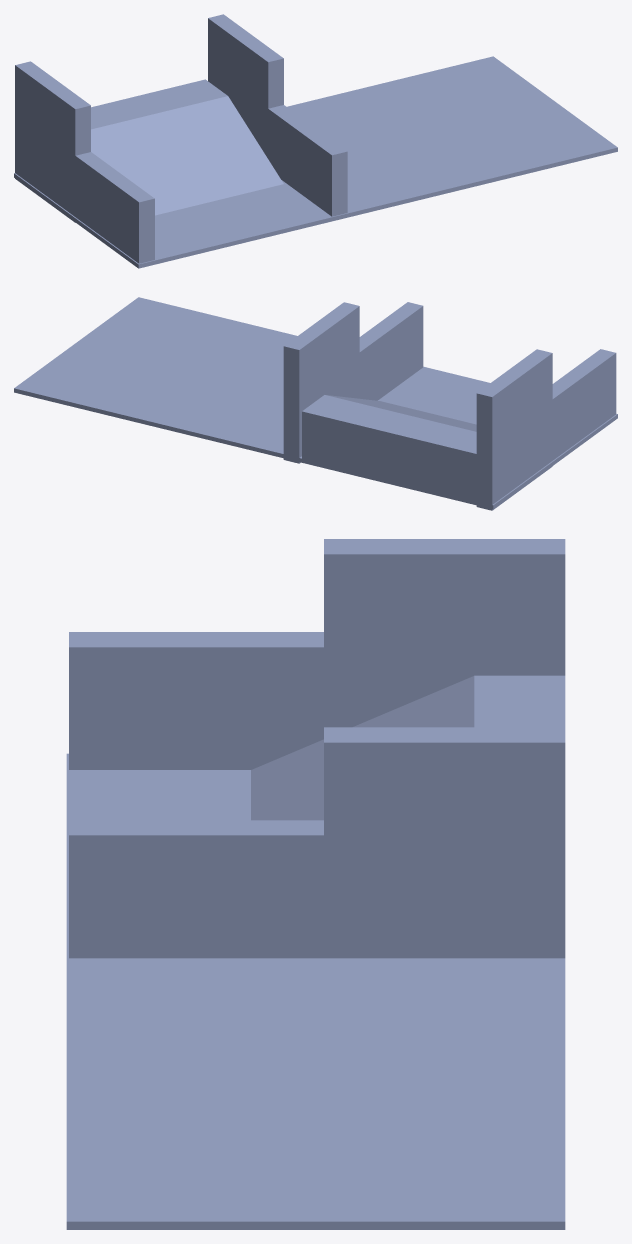
The model's file is HouseB_FrontPorch_collision.fbx.
The picture shows the model from 3 angles, top to bottom: view 1: azimuth 30°, elevation 25°; view 2: azimuth 150°, elevation 25°; view 3: azimuth 270°, elevation 25°; orthographic projection. The views are drawn at different scales.
Visible parts, largest first — view 1: HouseB_FrontPorch_collision; view 2: HouseB_FrontPorch_collision; view 3: HouseB_FrontPorch_collision.
Boxes of the visible parts, box(x1,y1,x2,y2) form: HouseB_FrontPorch_collision: box(14, 14, 617, 268); HouseB_FrontPorch_collision: box(14, 297, 617, 510); HouseB_FrontPorch_collision: box(66, 539, 565, 1229).
Bounding box in the file's own units: 999 × 243 × 450.
